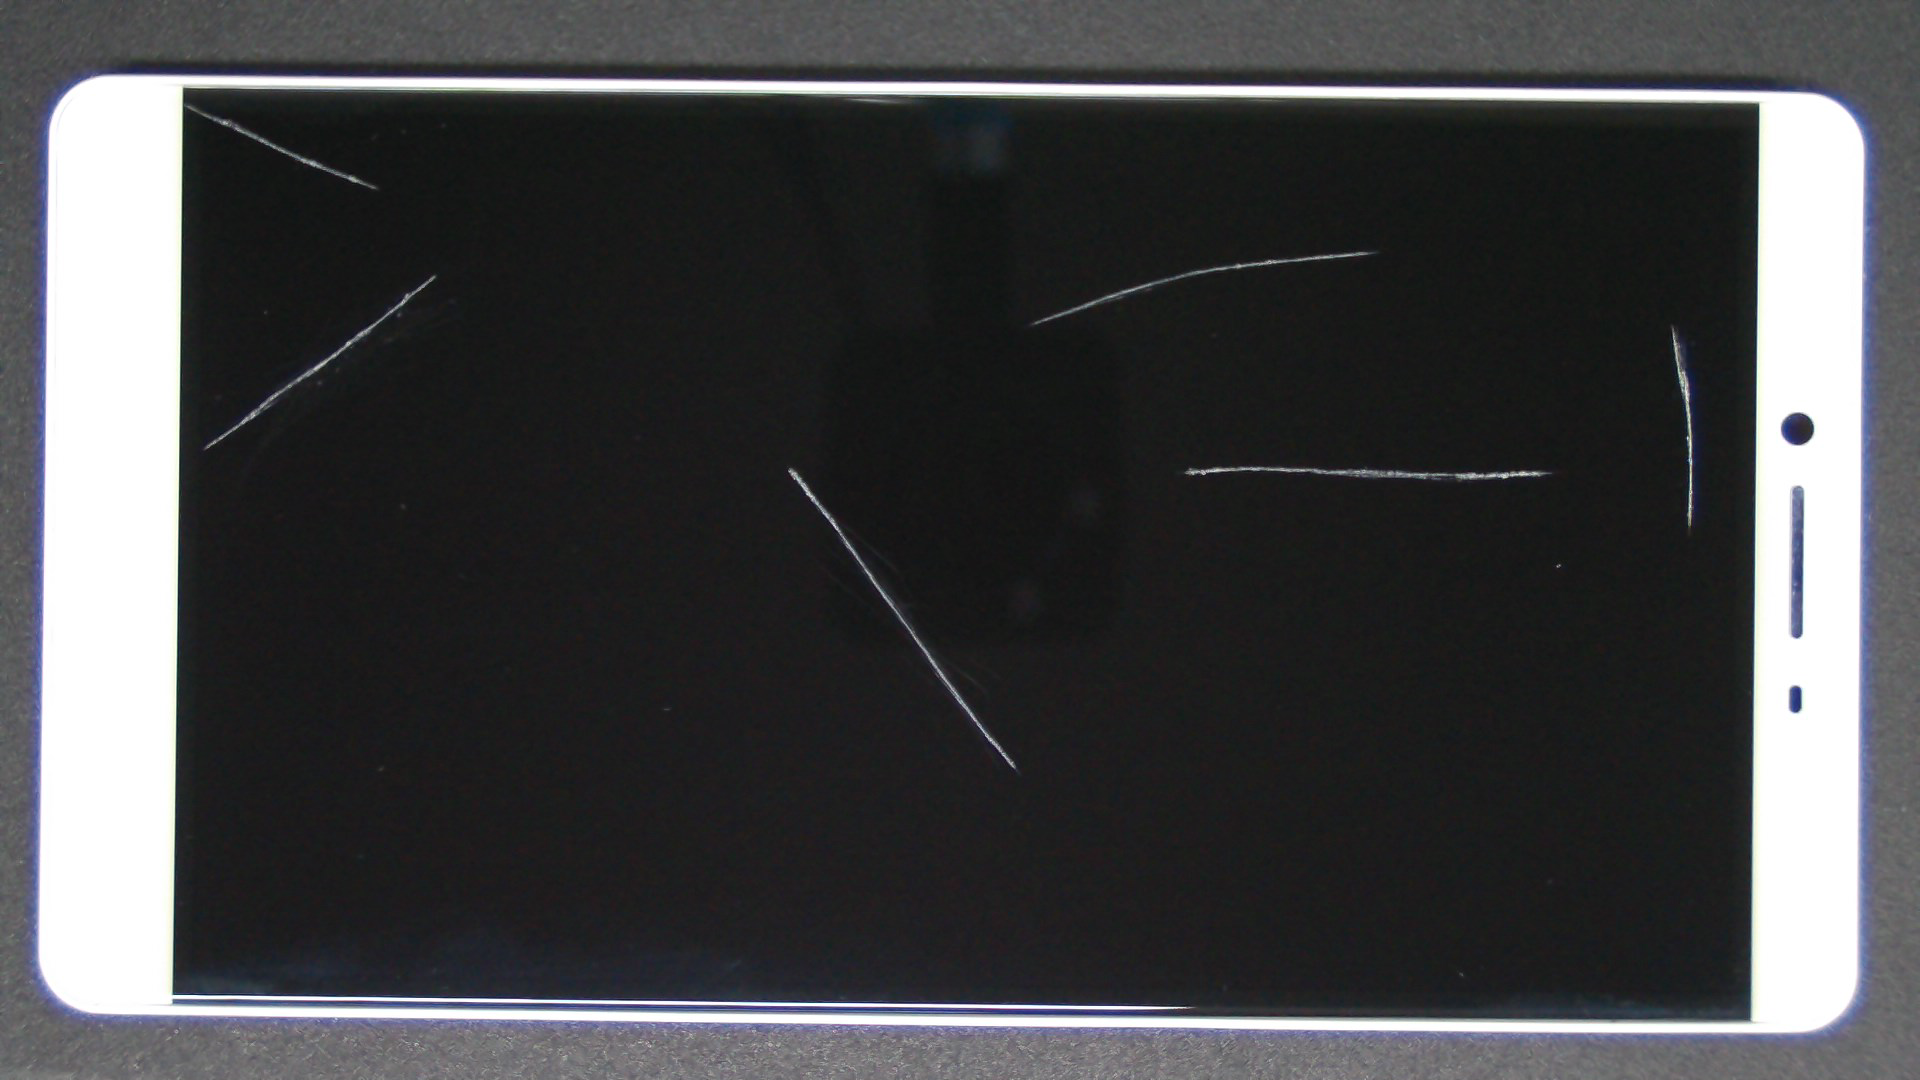defect: (785, 465, 1017, 771), (200, 273, 436, 451), (1030, 251, 1379, 326), (185, 102, 377, 191), (1182, 464, 1553, 483), (1669, 323, 1693, 527)
